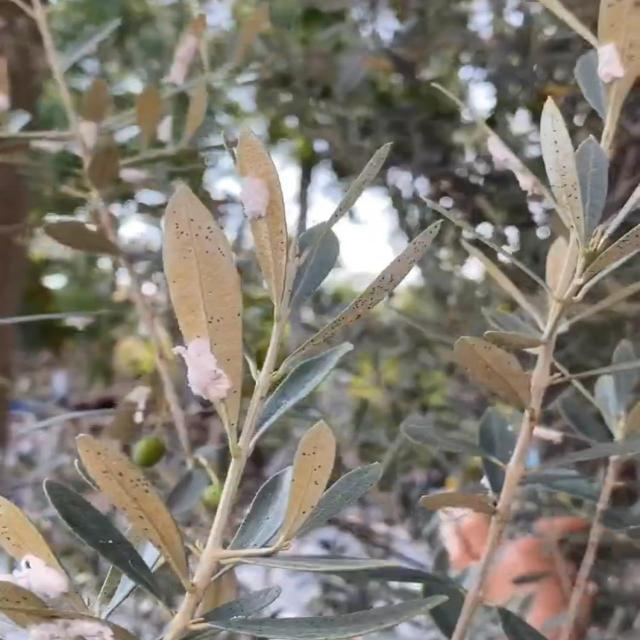Psyllid: (0, 548, 135, 640), (230, 128, 291, 308), (173, 338, 236, 413), (596, 42, 624, 84)
